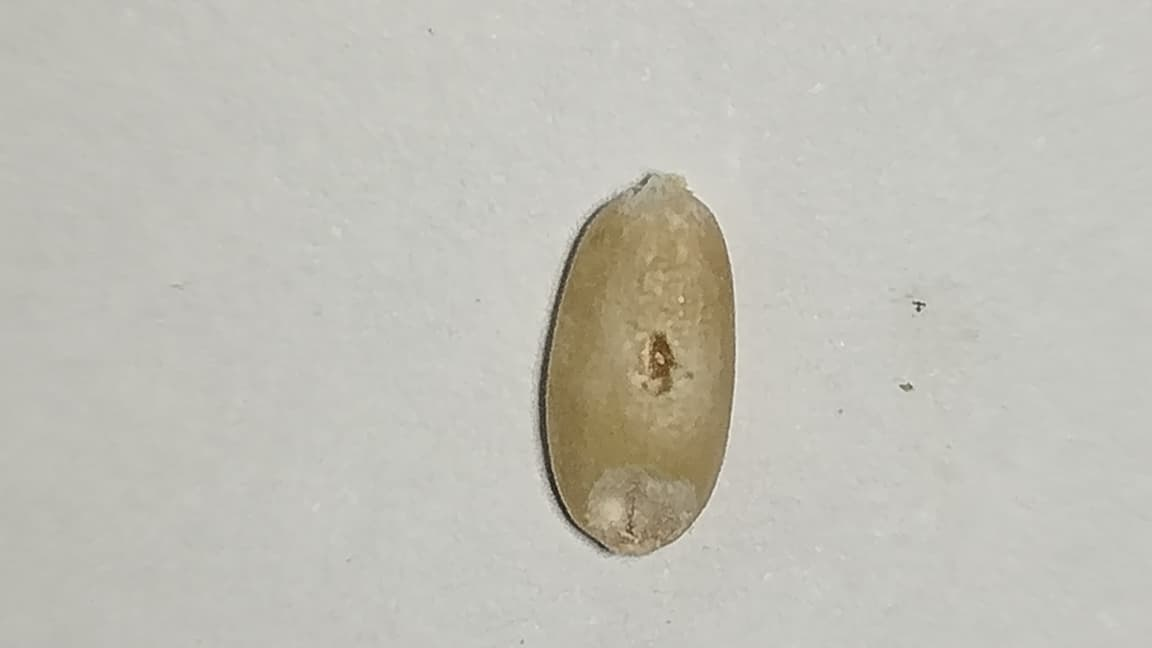damage: (540, 171, 735, 547)
insectdamage: (584, 466, 697, 554), (621, 321, 702, 408)
